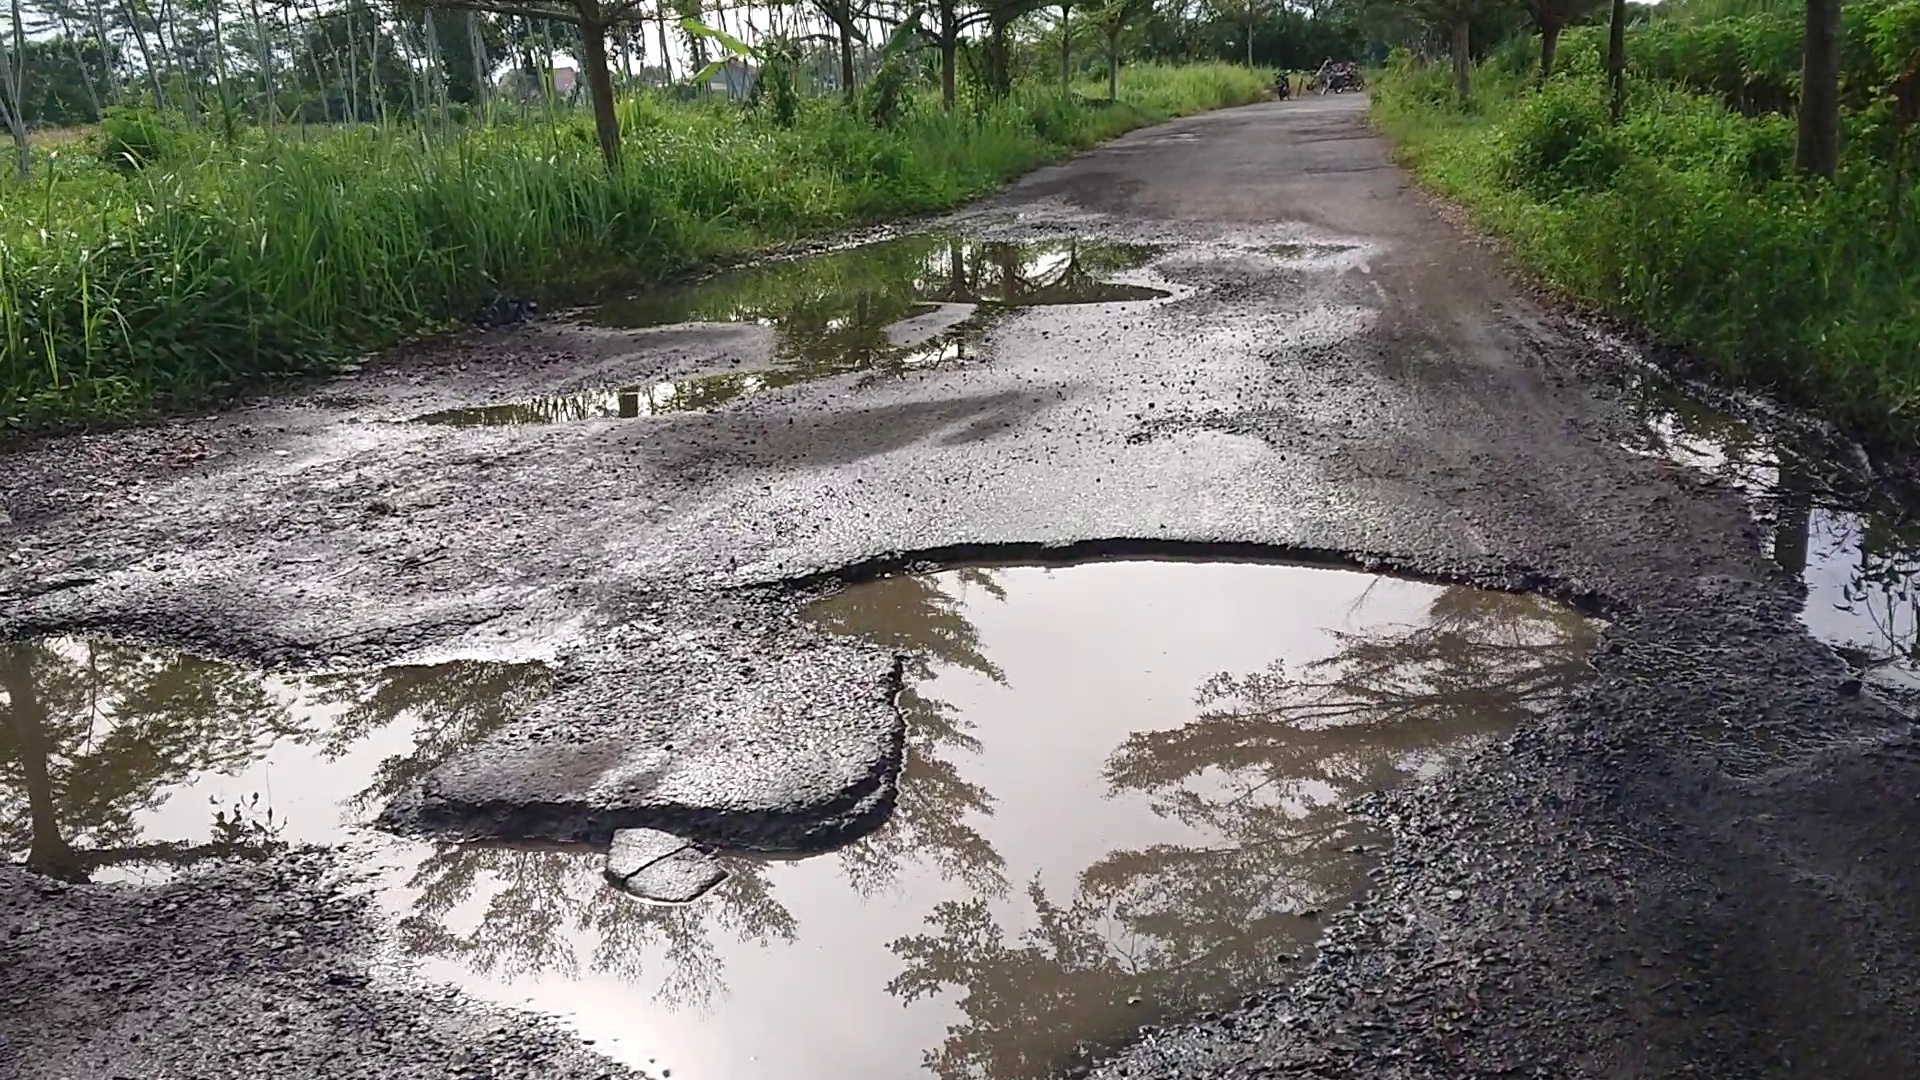Berlubang: (384, 562, 1662, 1072), (458, 219, 1213, 425), (1, 607, 375, 880)
